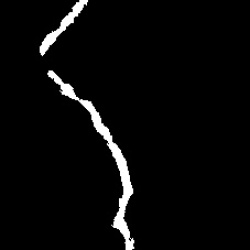crack: (48, 68, 134, 247), (40, 2, 87, 54)
